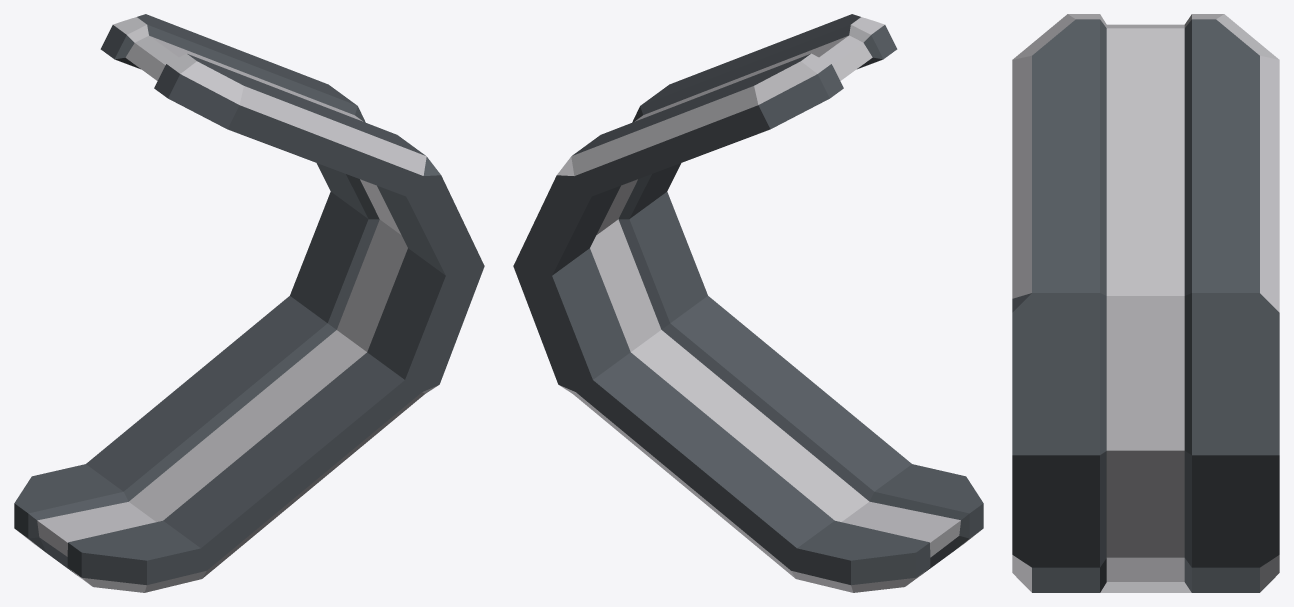
The model's file is Mothership_02_Thrust_Frame.fbx.
3 views of the same model, side by side, from view 1: azimuth 30°, elevation 25°; view 2: azimuth 150°, elevation 25°; view 3: azimuth 270°, elevation 25° (orthographic). The views are drawn at different scales.
Parts seen in each view (by area): view 1: Mothership_02_Thrust_Frame; view 2: Mothership_02_Thrust_Frame; view 3: Mothership_02_Thrust_Frame.
Part boxes in pixels (x1,y1,x2,y2): Mothership_02_Thrust_Frame: [14, 14, 484, 592]; Mothership_02_Thrust_Frame: [513, 14, 983, 592]; Mothership_02_Thrust_Frame: [1012, 14, 1279, 592].
Size of the model in its own units: 373 by 471 by 196.
Materials: 1 (1 with a texture image).
